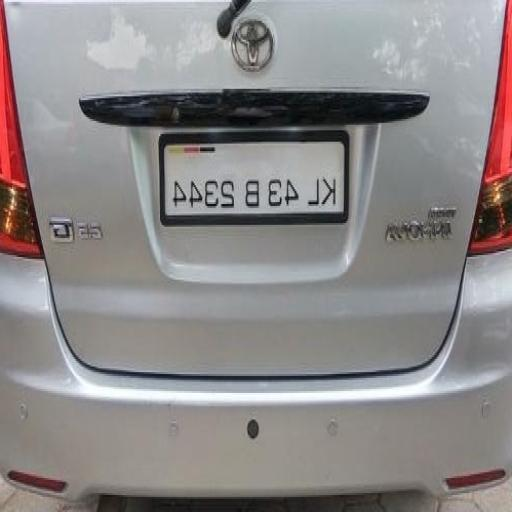License: (163, 134, 347, 217)
